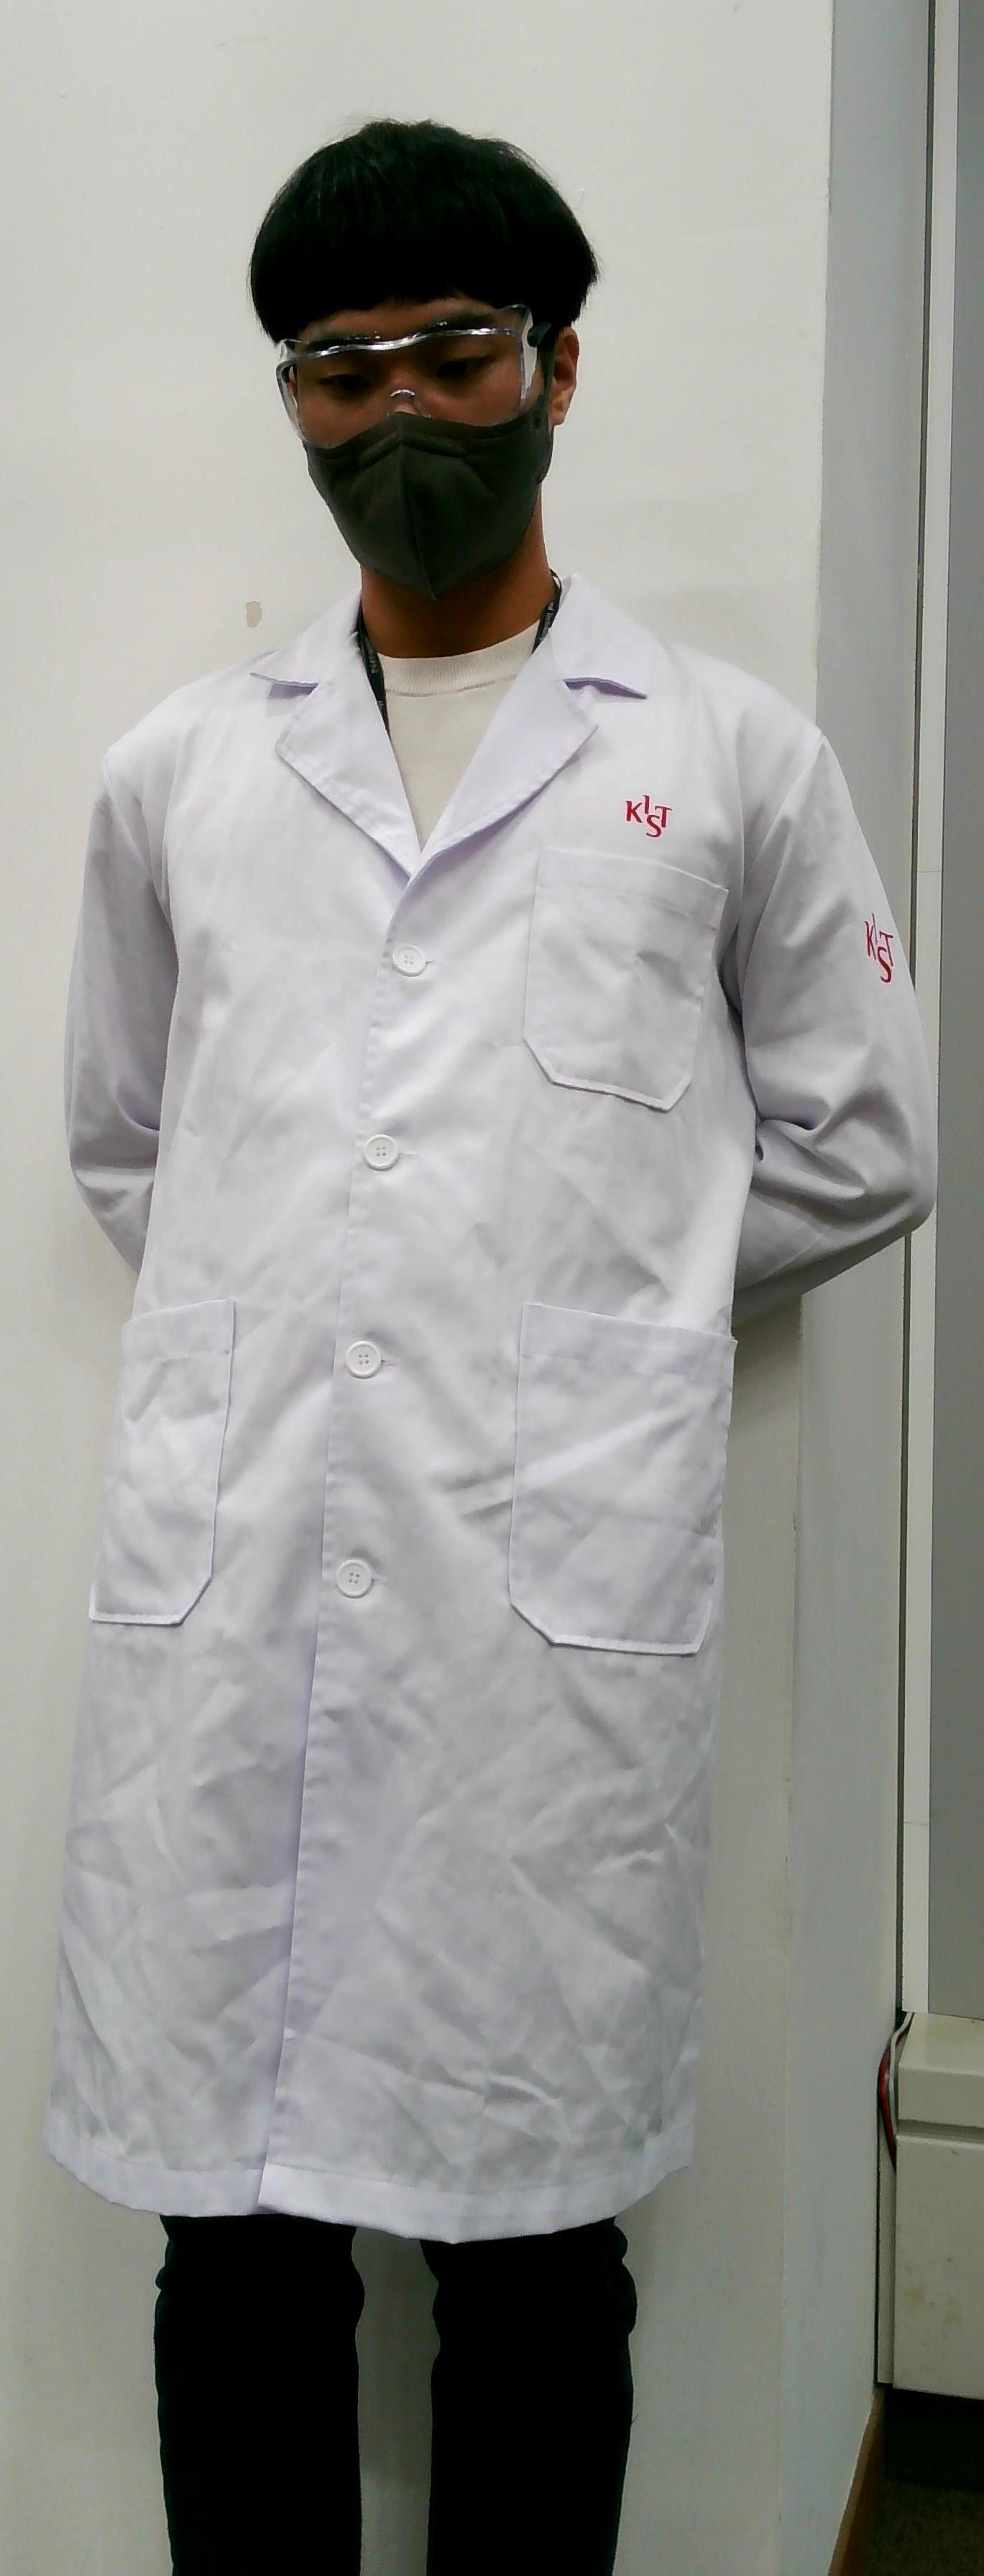lab_coat: (66, 677, 894, 2187)
